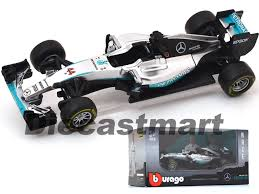FormulaOneCar: (2, 10, 259, 129)
